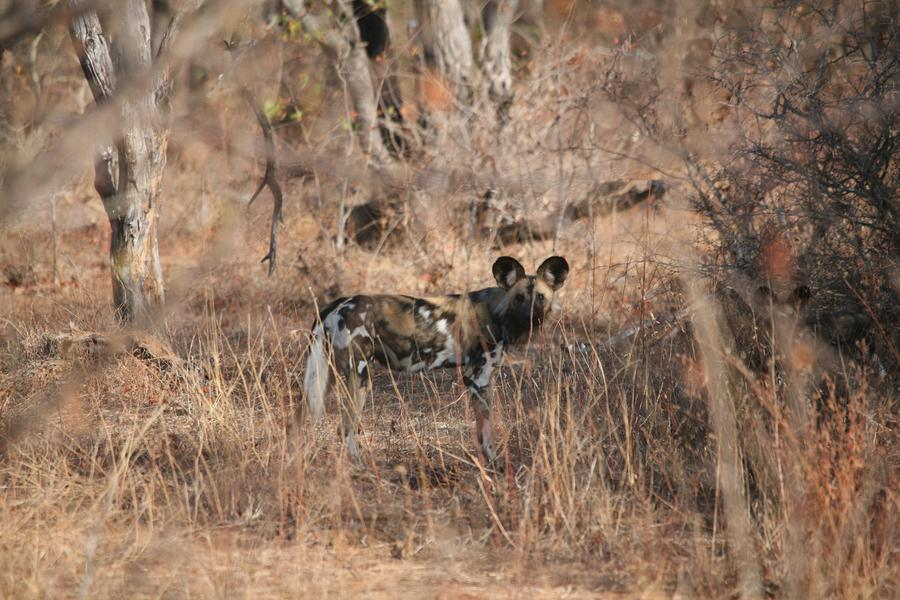wilddog: (296, 255, 566, 433)
